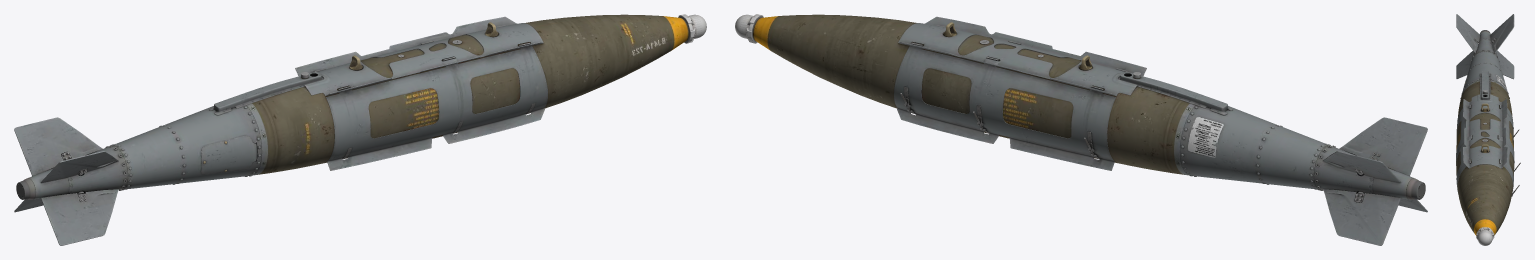
3 renders of one model, left to right at view 1: azimuth 30°, elevation 25°; view 2: azimuth 150°, elevation 25°; view 3: azimuth 270°, elevation 25°, orthographic. The views are drawn at different scales.
Parts seen in each view (by area): view 1: Object_2, Object_3; view 2: Object_2, Object_3; view 3: Object_2, Object_3.
Part boxes in pixels (box(x1,y1,x2,y2)): Object_2: box(14, 14, 706, 245); Object_3: box(295, 16, 547, 170); Object_2: box(735, 14, 1427, 245); Object_3: box(898, 16, 1146, 170); Object_2: box(1456, 14, 1520, 245); Object_3: box(1456, 94, 1514, 193).
Bounding box in the file's own units: 3.85 × 0.511 × 0.5104.
1 material, 1 textured.
